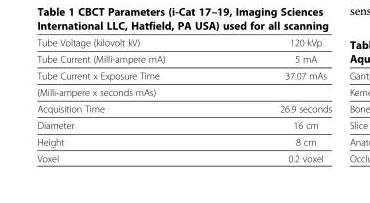table: (36, 36, 331, 163)
table column: (36, 36, 221, 163), (221, 36, 331, 163)
table projected row header: (36, 83, 331, 100)
table row: (36, 50, 331, 67), (36, 83, 331, 100), (36, 116, 331, 133), (36, 67, 331, 83), (36, 100, 331, 116), (36, 133, 331, 149), (36, 36, 331, 50), (36, 149, 331, 163)
